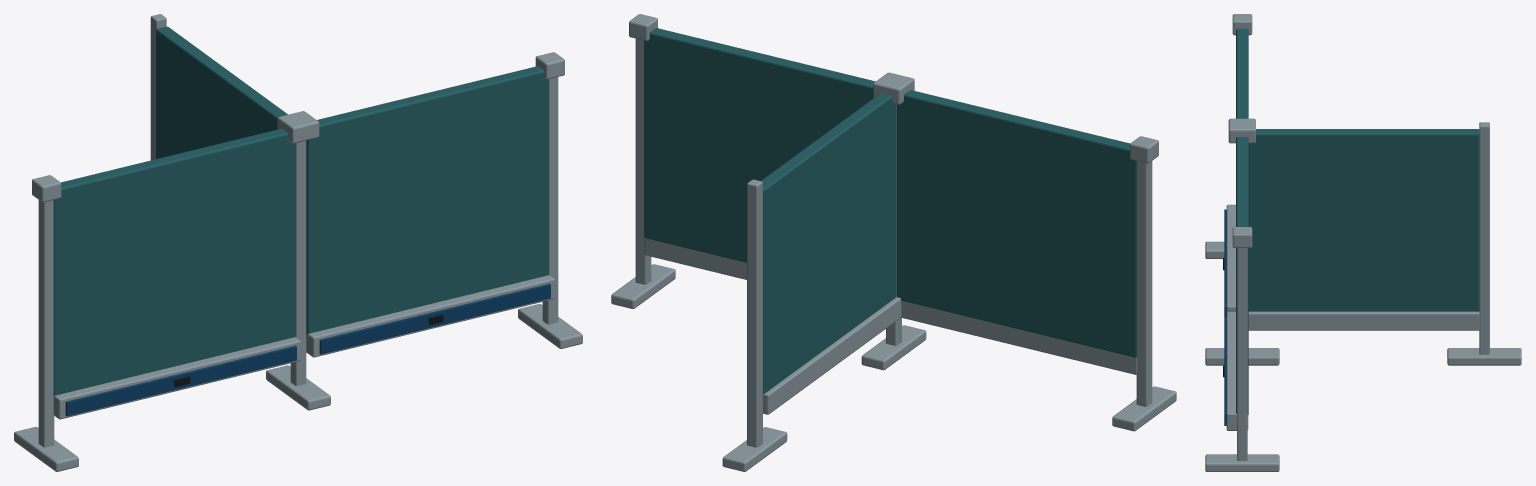
File: edited.glb
The picture shows the model from 3 angles, left to right: view 1: azimuth 30°, elevation 25°; view 2: azimuth 150°, elevation 25°; view 3: azimuth 270°, elevation 25°; orthographic projection. The views are drawn at different scales.
Visible parts, largest first — view 1: PANEL_Main.001, PANEL_Main, PANEL_Return, POST, RACEWAY_RemovableCover.001, RACEWAY_RemovableCover, RACEWAY_Main.001, RACEWAY_Main, POST.001, POST.002, FOOT, FOOT.001 (+5 smaller); view 2: PANEL_Main, PANEL_Main.001, PANEL_Return, POST.003, RACEWAY_Main, POST, RACEWAY_Return, POST.002, RACEWAY_Main.001, FOOT.002, FOOT, FOOT.001 (+4 smaller); view 3: PANEL_Return, RACEWAY_Return, POST.003, POST.002, PANEL_Main.001, FOOT.003, FOOT.002, RACEWAY_Main.001, PANEL_Main, RACEWAY_Main, FOOT.001, CONNECTOR_T (+3 smaller).
Part boxes in pixels (x1,y1,x2,y2): PANEL_Main.001: (306, 66, 549, 334); PANEL_Main: (53, 128, 295, 395); PANEL_Return: (156, 26, 287, 158); POST: (38, 178, 54, 447); RACEWAY_RemovableCover.001: (319, 283, 550, 354); RACEWAY_RemovableCover: (65, 345, 296, 416); RACEWAY_Main.001: (306, 275, 554, 357); RACEWAY_Main: (53, 337, 300, 419); POST.001: (290, 116, 306, 385); POST.002: (542, 55, 558, 324); FOOT: (14, 426, 78, 471); FOOT.001: (266, 365, 330, 410); PANEL_Main: (897, 90, 1137, 357); PANEL_Main.001: (644, 28, 875, 262); PANEL_Return: (760, 93, 896, 394); POST.003: (747, 179, 762, 447); RACEWAY_Main: (901, 300, 1137, 374); POST: (1136, 139, 1152, 406); RACEWAY_Return: (763, 297, 901, 414); POST.002: (635, 17, 651, 284); RACEWAY_Main.001: (644, 238, 746, 279); FOOT.002: (611, 264, 675, 308); FOOT: (1112, 386, 1176, 431); FOOT.001: (861, 325, 926, 370); PANEL_Return: (1248, 129, 1479, 311); RACEWAY_Return: (1248, 311, 1479, 330); POST.003: (1479, 122, 1489, 354); POST.002: (1237, 228, 1247, 460); PANEL_Main.001: (1236, 137, 1248, 414); FOOT.003: (1447, 348, 1521, 365); FOOT.002: (1205, 454, 1279, 471); RACEWAY_Main.001: (1226, 312, 1248, 430); PANEL_Main: (1236, 28, 1248, 118); RACEWAY_Main: (1226, 204, 1235, 312); FOOT.001: (1205, 348, 1279, 365); CONNECTOR_T: (1228, 118, 1255, 143).
Bounding box in the file's own units: 2.7 × 1.34 × 1.62.
